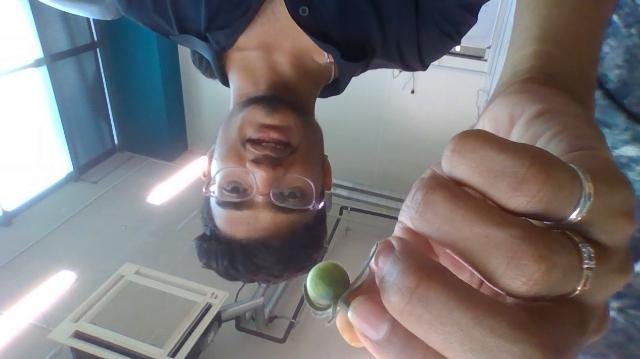Fruit Maturation: (305, 259, 349, 309)
